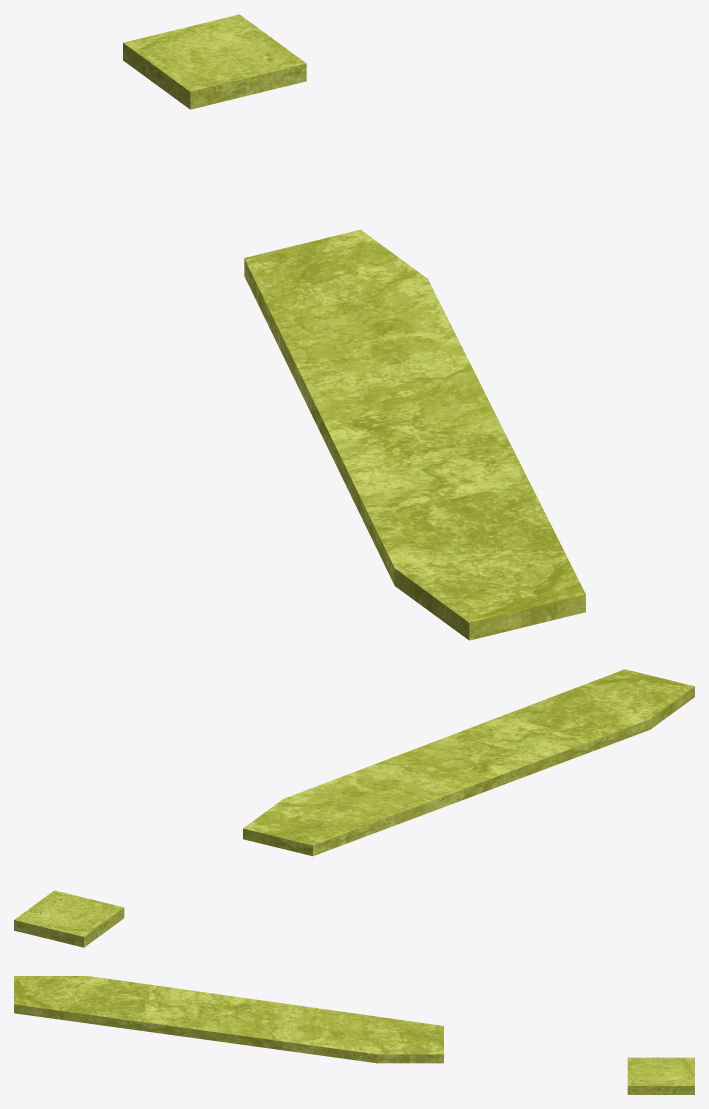
The picture shows the model from 3 angles, top to bottom: view 1: azimuth 30°, elevation 25°; view 2: azimuth 150°, elevation 25°; view 3: azimuth 270°, elevation 25°; orthographic projection. The views are drawn at different scales.
Visible parts, largest first — view 1: Plane.001_Plane.002_Plane.001_Plane.003; view 2: Plane.001_Plane.002_Plane.001_Plane.003; view 3: Plane.001_Plane.002_Plane.001_Plane.003.
Part boxes in pixels (left/top/right/bottom): Plane.001_Plane.002_Plane.001_Plane.003: left=123, top=14, right=585, bottom=640; Plane.001_Plane.002_Plane.001_Plane.003: left=14, top=669, right=694, bottom=947; Plane.001_Plane.002_Plane.001_Plane.003: left=14, top=976, right=694, bottom=1094.
Size of the model in its own units: 13.3 by 0.5 by 34.78.
